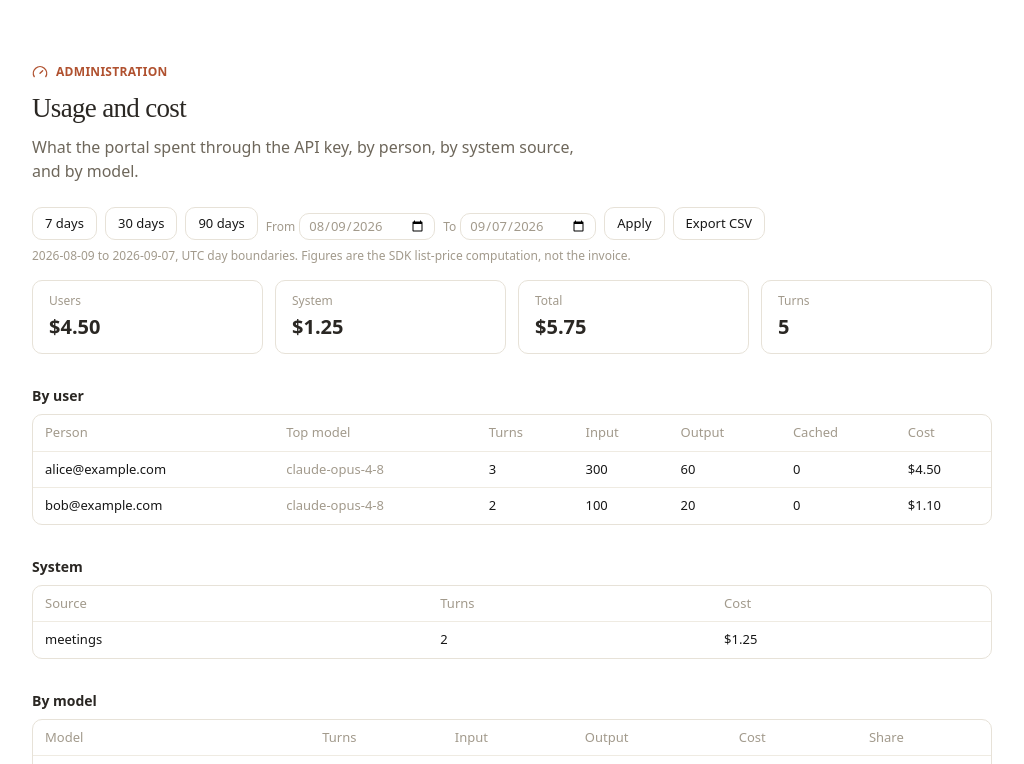
Test case: UsageAdminPage › keeps a slow drill-down from overwriting the owner expanded after it
The image size is (1024, 764).
Click the button "alice@example.com": [106, 469] box [45,460,166,479]
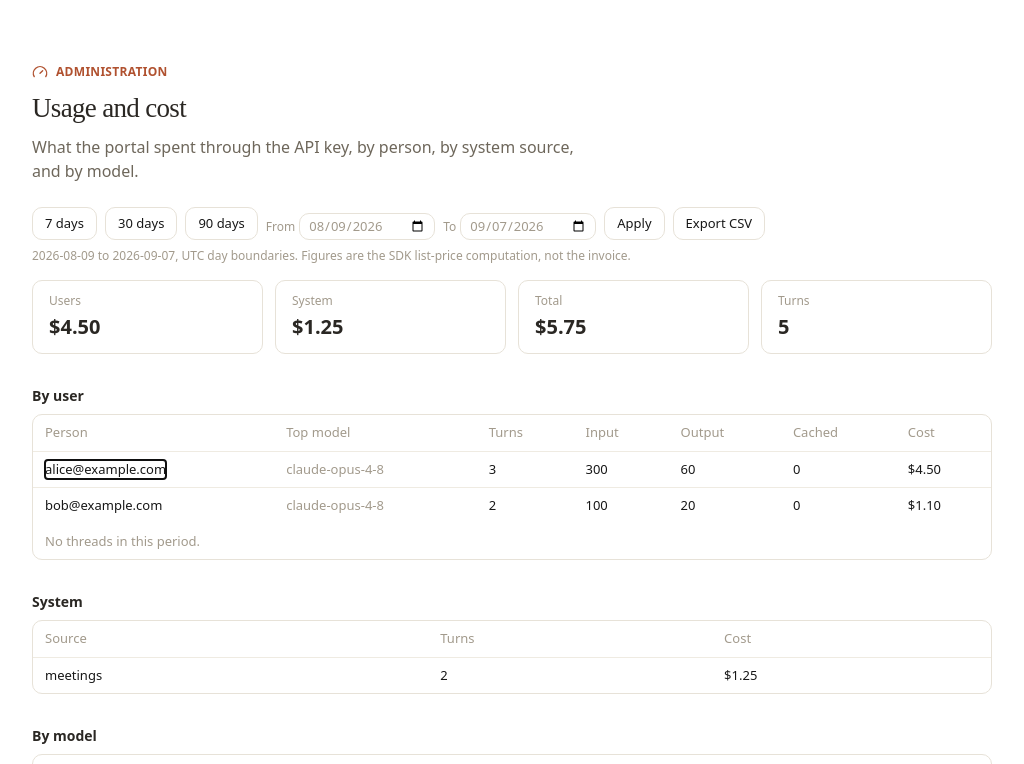
Click the button "bob@example.com": [104, 506] box [45,496,162,516]
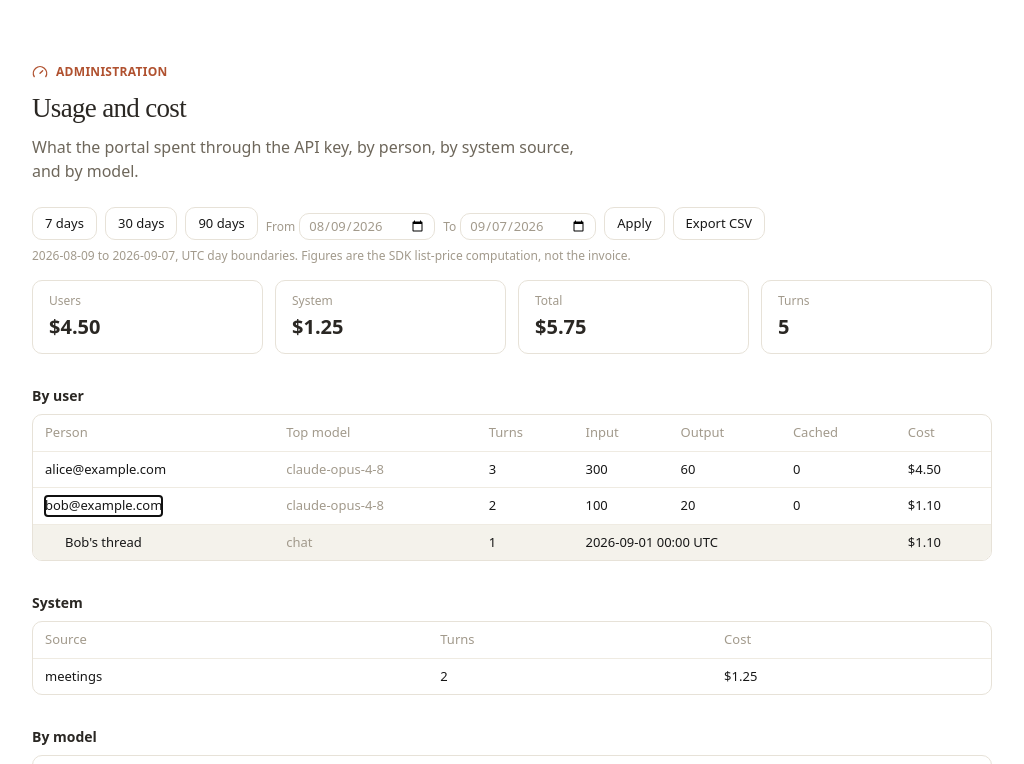
Result: the link "Bob's thread" is shown at [65,532,142,550]
